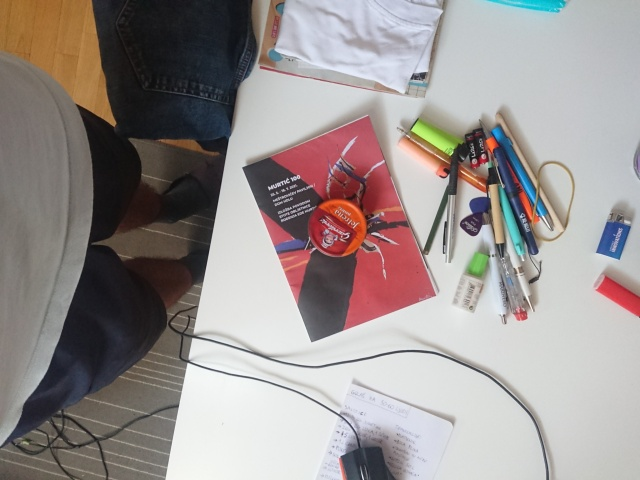Gavrilovic Pork Liver Pate 100g: (305, 196, 368, 259)
